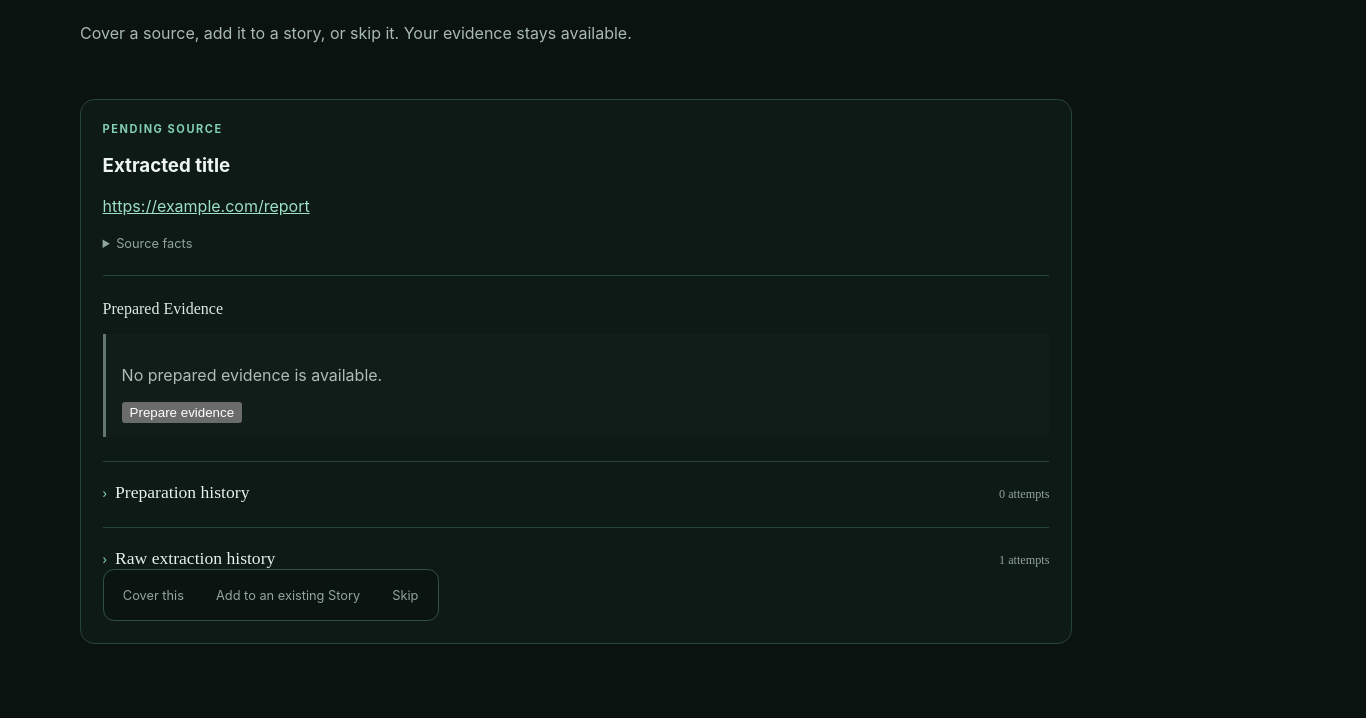
Test: SourceInboxWorkspace › names the Story the operator created, not the publisher's page title
(page scrolled)
Click the button "Cover this".
click(153, 595)  # box [107,573,200,617]
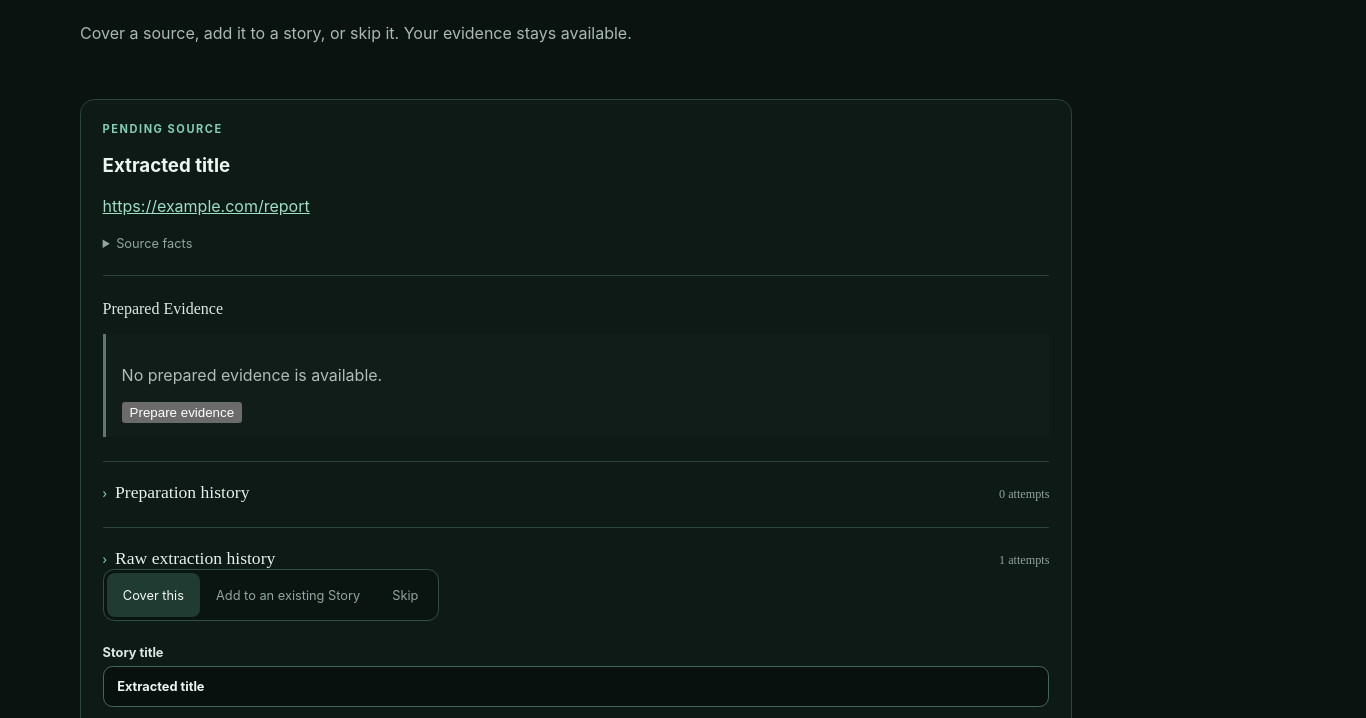
Replace the text in the field labelled "Story title" with "An operator's own headline" at [576, 686], box [103,666,1049,707]
(page scrolled)
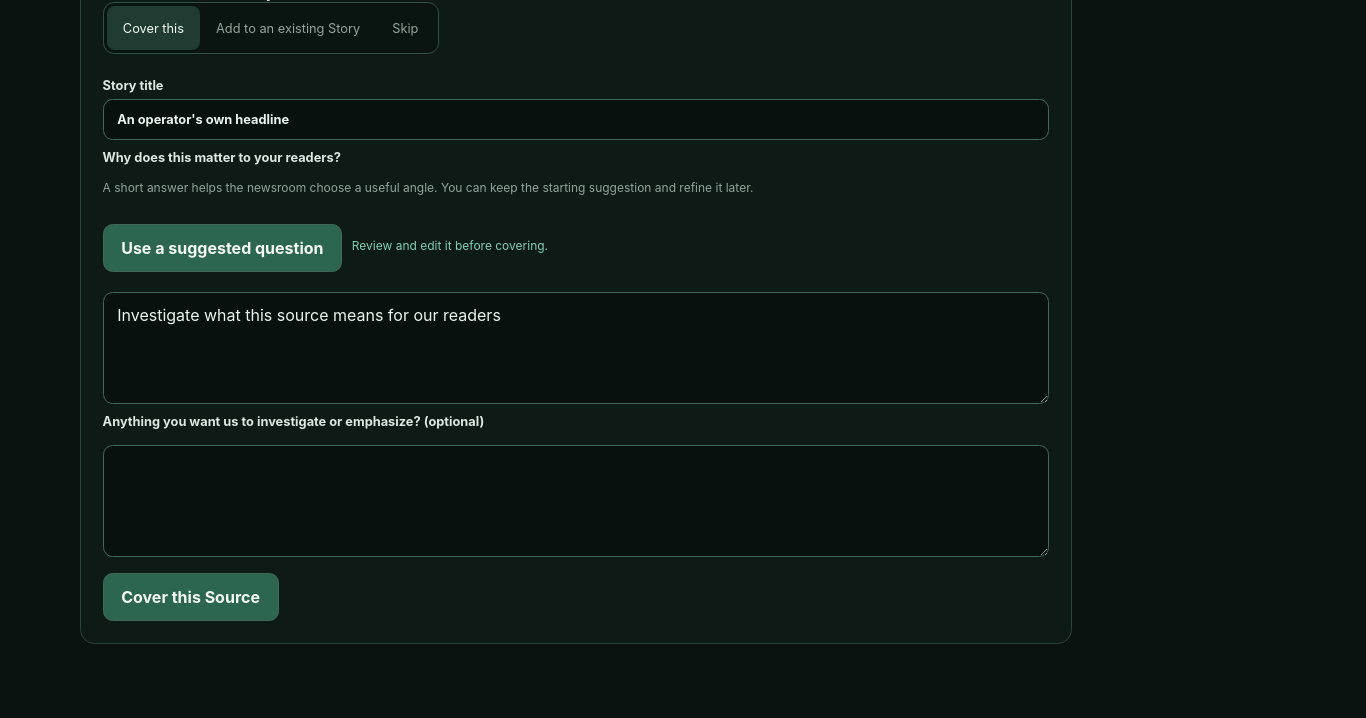
Replace the text in the text box labelled "Why does this matter to your readers?" with "Residents should know when service returns." at [576, 348], box [103,292,1049,404]
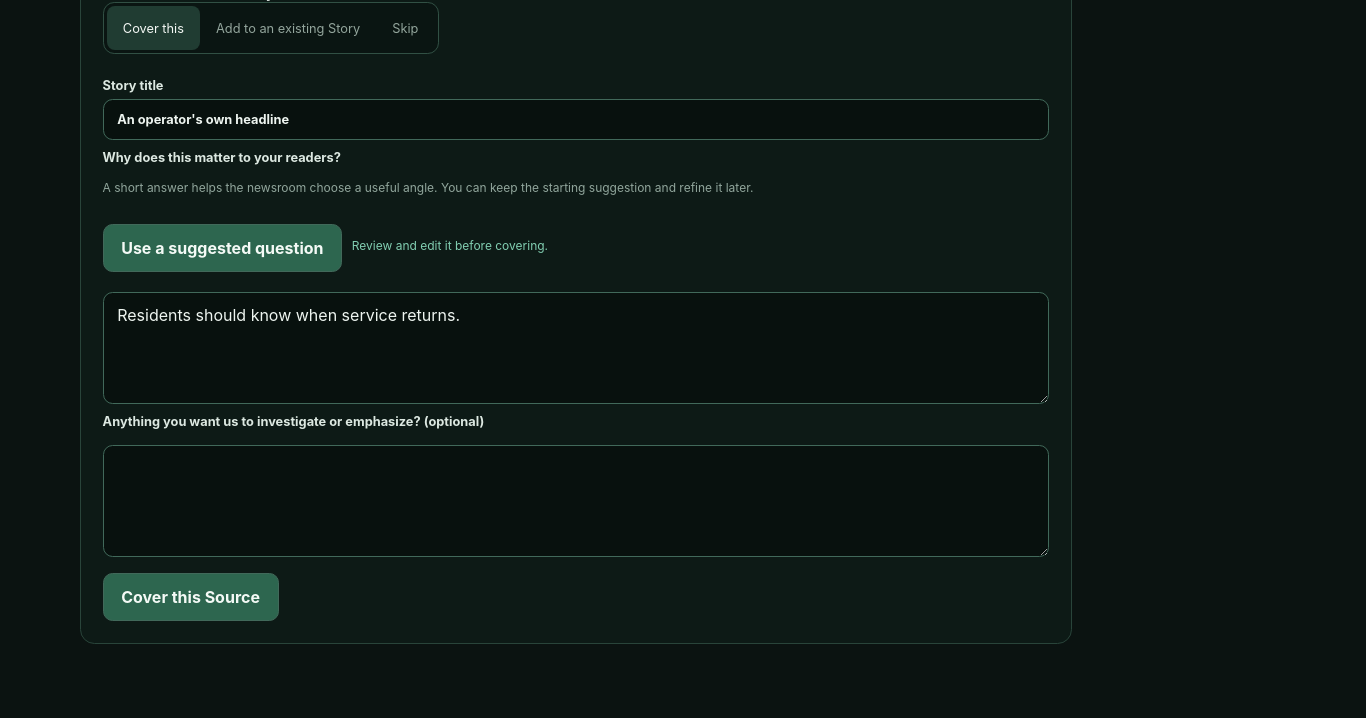
Type "Confirmed service timing" into the text box labelled "Anything you want us to investigate or emphasize? (optional)".
click(576, 501); type("Confirmed service timing")  # box [103,445,1049,557]
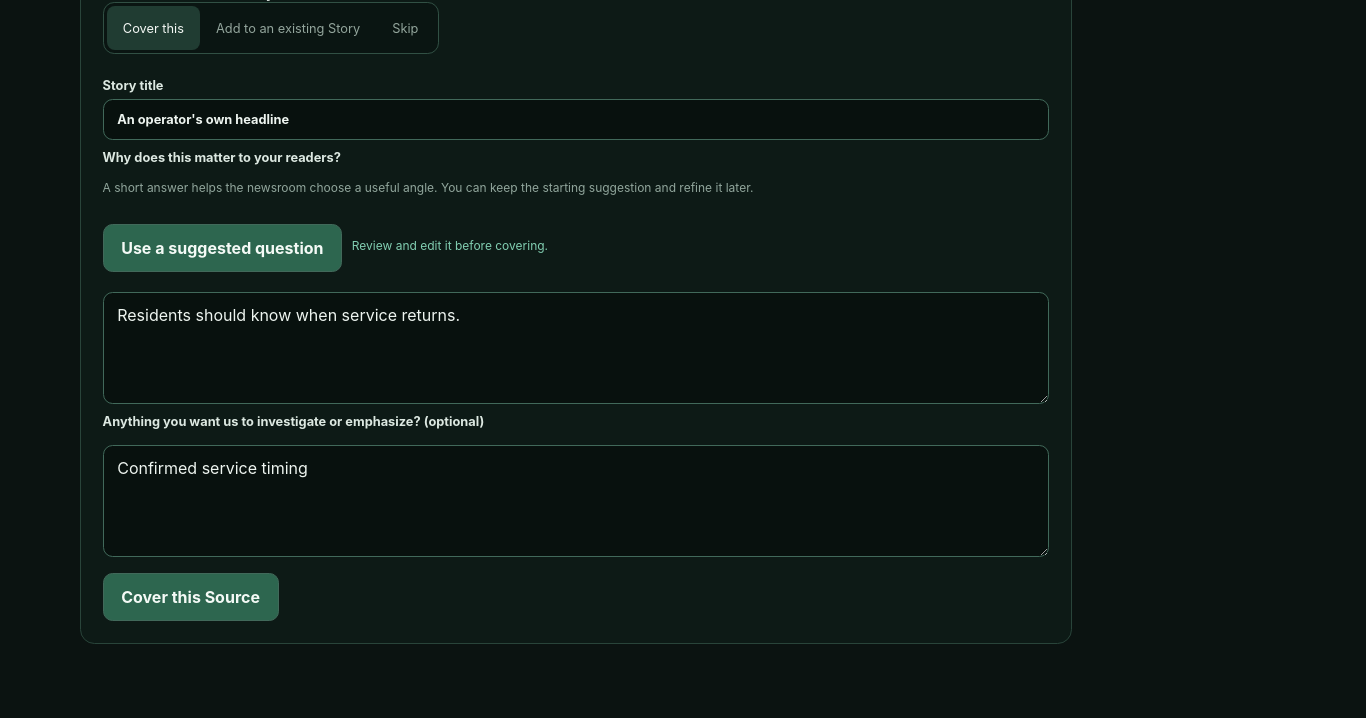
Click the button "Cover this Source".
click(191, 597)  # box [103,573,279,621]
(page scrolled)
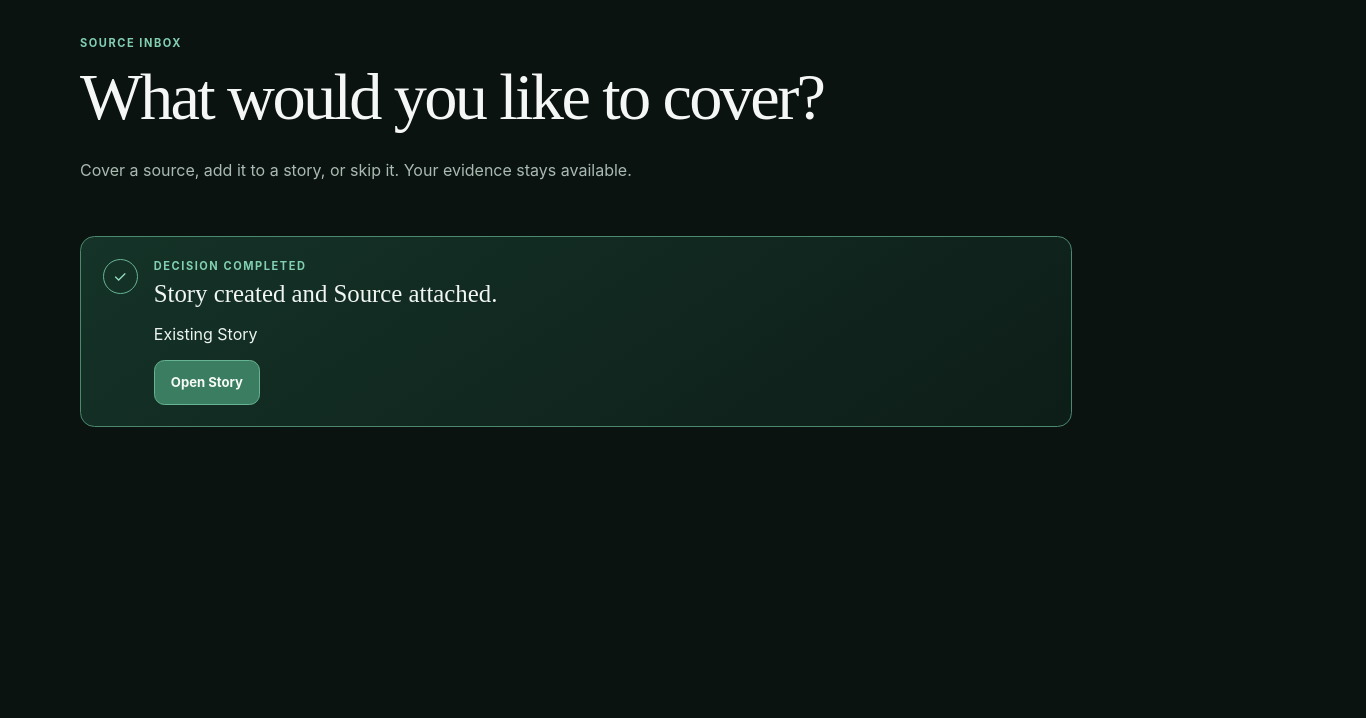
Expected: the text "Existing Story" is shown, [154,324,258,344]
Now the heading "Story created and Source attached." is shown, box [154,280,497,308]
